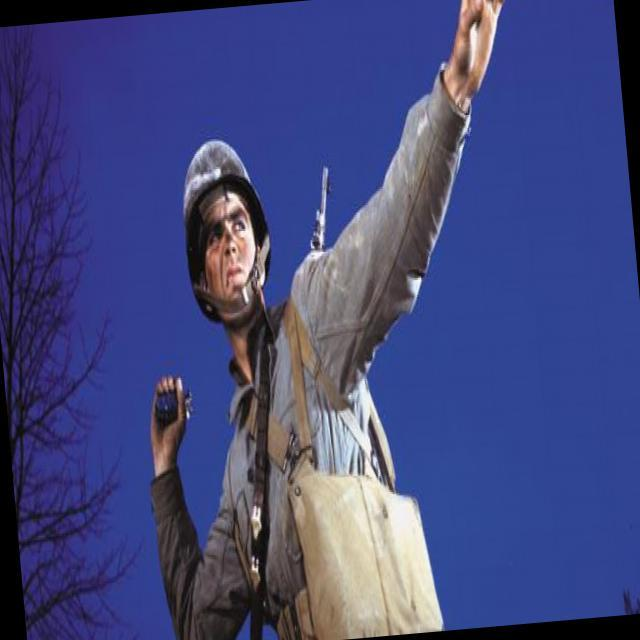grenade: (153, 377, 200, 434)
